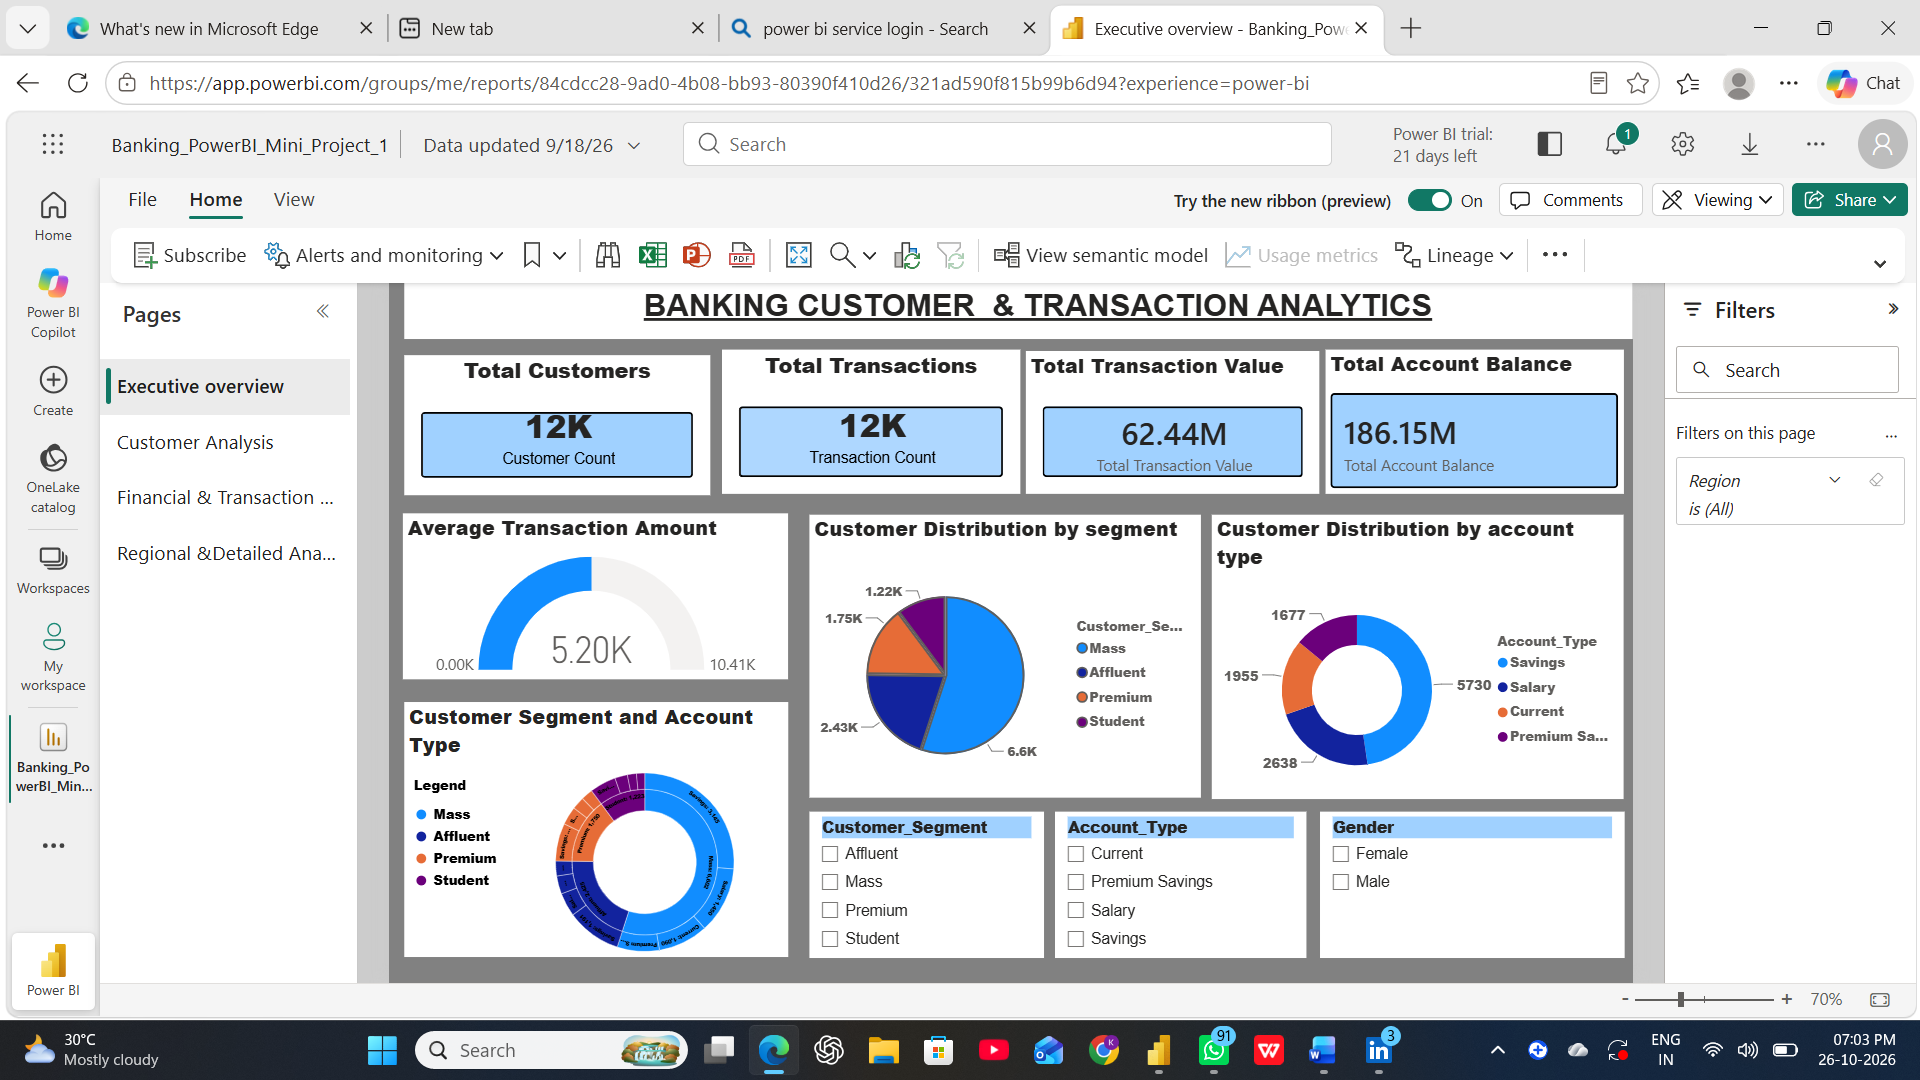

Layout of this report page (visuals, bound fields, positions):
{"tool":"powerbi","page":{"name":"Executive overview","canvas":[1280,720],"ordinal":0},"visuals":[{"type":"textbox","box":[16.4,0,1264.3,57.3],"z":0},{"type":"cardVisual","title":"Total Customers","fields":{"Data":["Banking_Customer_Insights_Dataset-1.Customer Count"]},"box":[16,73.5,315,143.9],"z":1000},{"type":"cardVisual","title":"Total Transactions","fields":{"Data":["Banking_Customer_Insights_Dataset-1.Transaction Count"]},"box":[342.1,68.7,307,148.7],"z":2000},{"type":"cardVisual","title":"Total Transaction Value","fields":{"Data":["Banking_Customer_Insights_Dataset-1.Total Transaction Value"]},"box":[655.5,70.3,302.2,147.1],"z":3000},{"type":"cardVisual","title":"Total Account Balance","fields":{"Data":["Banking_Customer_Insights_Dataset-1.Total Account Balance"]},"box":[964,68.7,307,148.7],"z":4000},{"type":"gauge","title":"Average  Transaction Amount","fields":{"Y":["Banking_Customer_Insights_Dataset-1.Average Transaction Amount"]},"box":[14.4,236.6,396.5,171.1],"z":5000},{"type":"pieChart","title":"Customer  Distribution by segment ","fields":{"Category":["Banking_Customer_Insights_Dataset-1.Customer_Segment"],"Y":["Count(Banking_Customer_Insights_Dataset-1.Customer_ID)"]},"box":[433.3,238.2,402.9,291],"z":6000},{"type":"donutChart","title":"Customer Distribution by account type","fields":{"Category":["Banking_Customer_Insights_Dataset-1.Account_Type"],"Y":["Count(Banking_Customer_Insights_Dataset-1.Customer_ID)"]},"box":[847.3,238.2,423.7,292.6],"z":7000},{"type":"Sunburst1445472000808","title":"Customer  Segment and Account Type","fields":{"Nodes":["Banking_Customer_Insights_Dataset-1.Customer_Segment","Banking_Customer_Insights_Dataset-1.Account_Type"],"Values":["Count(Banking_Customer_Insights_Dataset-1.Customer_ID)"]},"box":[16,431.7,394.9,262.2],"z":8000},{"type":"slicer","fields":{"Values":["Banking_Customer_Insights_Dataset-1.Customer_Segment"]},"box":[433.3,543.6,241.4,150.3],"z":9000},{"type":"slicer","fields":{"Values":["Banking_Customer_Insights_Dataset-1.Account_Type"]},"box":[685.9,543.6,259,150.3],"z":10000},{"type":"slicer","fields":{"Values":["Banking_Customer_Insights_Dataset-1.Gender"]},"box":[957.7,543.6,313.4,150.3],"z":11000}]}

Visuals, with their boxes on the page's 1280x720 design canvas (x1, y1, x2, y2). These are canvas units, not pixel positions in the 1920x1080 screenshot, which may show the page scaled, cropped or inside an application window:
textbox: (16,0,1281,57)
"Total Customers" cardVisual: (16,74,331,217)
"Total Transactions" cardVisual: (342,69,649,217)
"Total Transaction Value" cardVisual: (656,70,958,217)
"Total Account Balance" cardVisual: (964,69,1271,217)
"Average  Transaction Amount" gauge: (14,237,411,408)
"Customer  Distribution by segment " pieChart: (433,238,836,529)
"Customer Distribution by account type" donutChart: (847,238,1271,531)
"Customer  Segment and Account Type" Sunburst1445472000808: (16,432,411,694)
slicer - Banking_Customer_Insights_Dataset-1.Customer_Segment: (433,544,675,694)
slicer - Banking_Customer_Insights_Dataset-1.Account_Type: (686,544,945,694)
slicer - Banking_Customer_Insights_Dataset-1.Gender: (958,544,1271,694)
